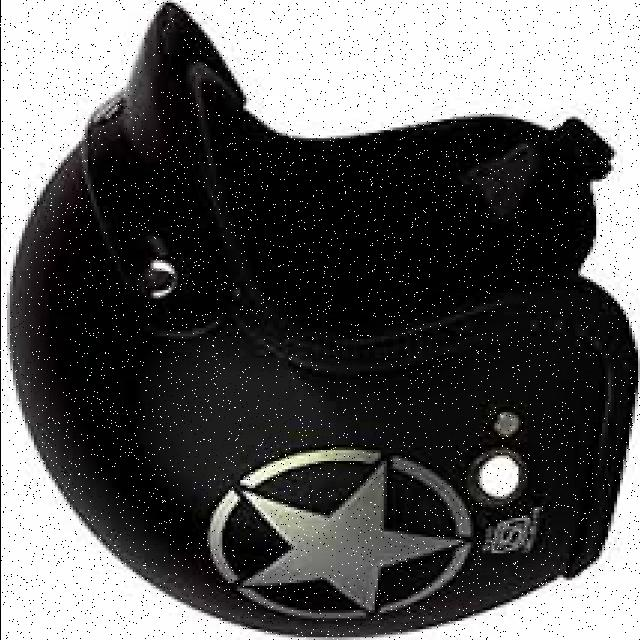Helmet: (11, 4, 634, 632)
